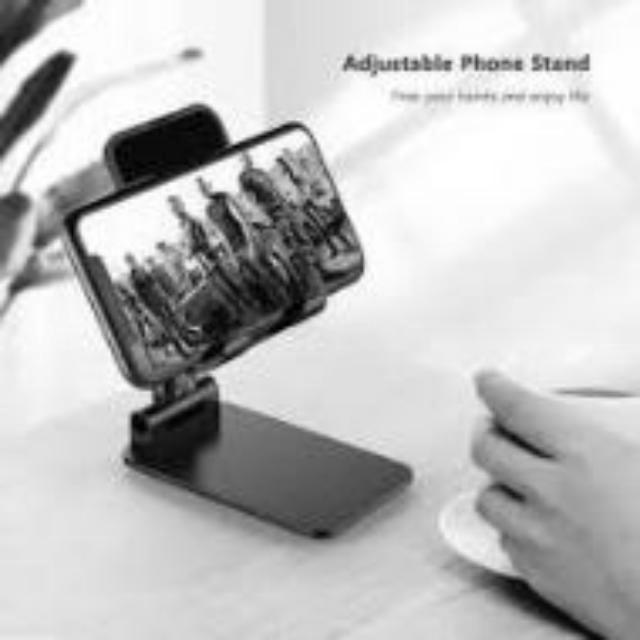fake: (55, 109, 377, 539)
